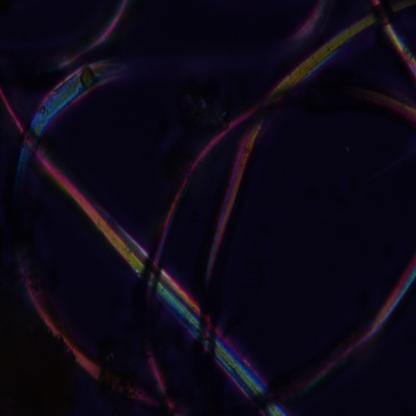Microfibre: (0, 0, 416, 414)
